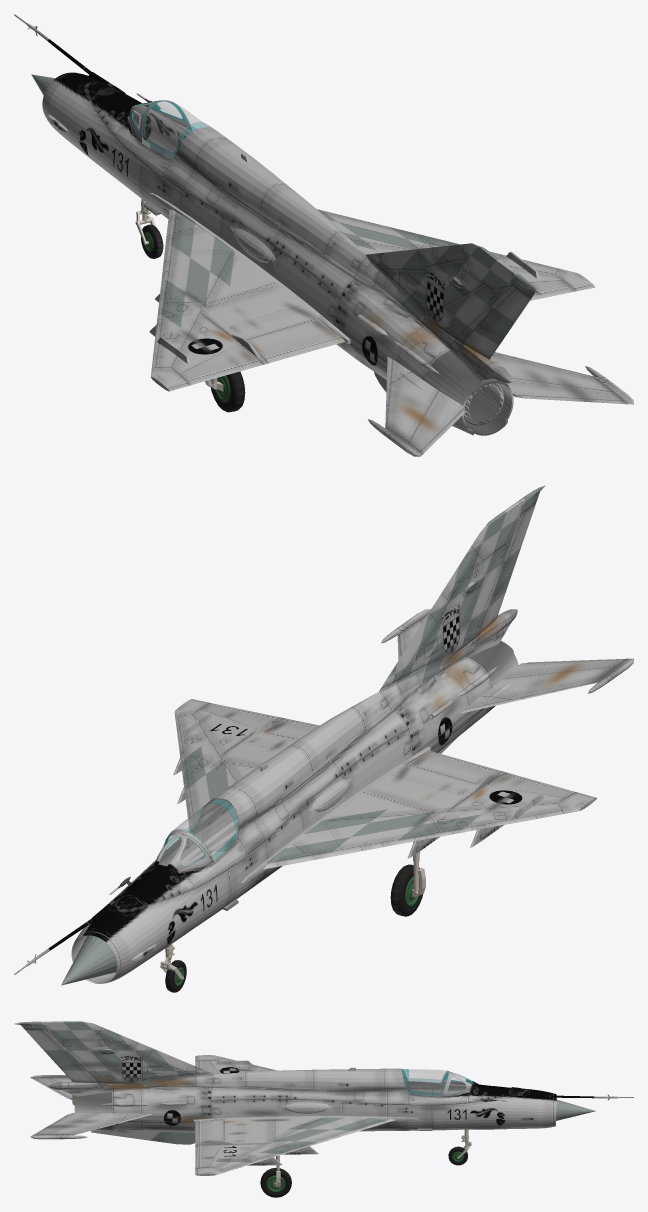
The model's file is mig21bis.glb.
3 renders of one model, top to bottom at view 1: azimuth 30°, elevation 25°; view 2: azimuth 150°, elevation 25°; view 3: azimuth 270°, elevation 25°, orthographic. The views are drawn at different scales.
Visible parts, largest first — view 1: airframe, elevator_l, elevator_r, rudder, canopy, flap_l, aileron_l, gear_left_wheel; view 2: airframe, elevator_l, canopy, rudder, flap_l, gear_left_wheel, aileron_l, aileron_r, elevator_r; view 3: airframe, elevator_r, rudder, canopy, gear_right_wheel, flap_r, aileron_r, elevator_l, gear_nose_wheel.
Boxes of the visible parts, <box> form: airframe: <box>14,14,595,435</box>; elevator_l: <box>368,361,465,456</box>; elevator_r: <box>491,352,633,404</box>; rudder: <box>460,281,532,359</box>; canopy: <box>142,100,211,158</box>; flap_l: <box>247,319,344,362</box>; aileron_l: <box>180,344,261,384</box>; gear_left_wheel: <box>210,371,245,412</box>; airframe: <box>14,485,596,985</box>; elevator_l: <box>469,658,633,711</box>; canopy: <box>167,798,238,860</box>; rudder: <box>476,498,537,634</box>; flap_l: <box>407,751,502,783</box>; gear_left_wheel: <box>390,864,422,916</box>; aileron_l: <box>487,773,574,797</box>; aileron_r: <box>203,703,279,728</box>; elevator_r: <box>381,609,430,660</box>; airframe: <box>14,1021,633,1175</box>; elevator_r: <box>30,1113,147,1139</box>; rudder: <box>23,1027,101,1083</box>; canopy: <box>401,1069,448,1096</box>; gear_right_wheel: <box>260,1168,291,1197</box>; flap_r: <box>195,1119,222,1144</box>; aileron_r: <box>195,1145,220,1168</box>; elevator_l: <box>30,1075,72,1098</box>; gear_nose_wheel: <box>448,1146,467,1165</box>.
Bounding box in the file's own units: 7.45 × 4.46 × 16.45.
Materials: 11 (5 with a texture image).
